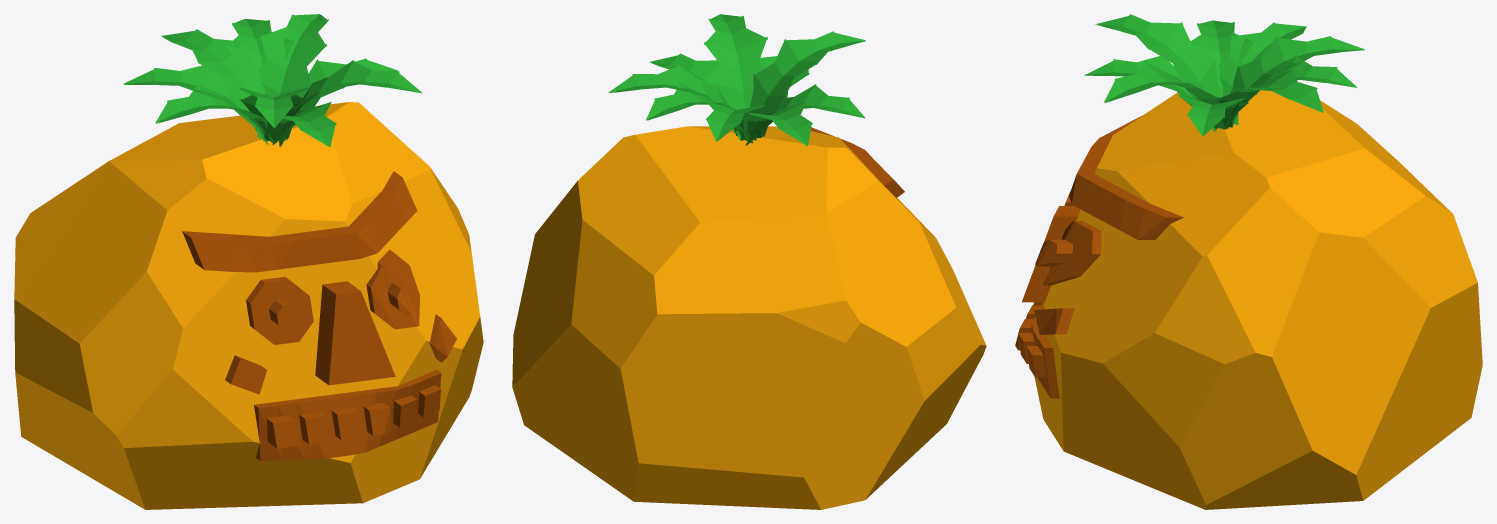
Rendered from TikiBoulder_Split.fbx.
3 views of the same model, side by side, from view 1: azimuth 30°, elevation 25°; view 2: azimuth 150°, elevation 25°; view 3: azimuth 270°, elevation 25° (orthographic). The views are drawn at different scales.
Parts seen in each view (by area): view 1: TikiBoulder_PieceA, TikiBoulder_PieceB, TikiBoulder_Face_L, TikiBoulder_Face_R, TikiBoulder_Palm_R, TikiBoulder_Palm_L; view 2: TikiBoulder_PieceA, TikiBoulder_PieceB, TikiBoulder_Palm_R, TikiBoulder_Palm_L, TikiBoulder_Face_L; view 3: TikiBoulder_PieceB, TikiBoulder_Face_R, TikiBoulder_Palm_L, TikiBoulder_PieceA, TikiBoulder_Palm_R, TikiBoulder_Face_L.
Boxes of the visible parts, bbox=[...] form: TikiBoulder_PieceA: bbox=[14, 121, 359, 509]; TikiBoulder_PieceB: bbox=[198, 102, 483, 503]; TikiBoulder_Face_L: bbox=[182, 229, 364, 460]; TikiBoulder_Face_R: bbox=[327, 171, 456, 452]; TikiBoulder_Palm_R: bbox=[218, 14, 421, 146]; TikiBoulder_Palm_L: bbox=[123, 29, 331, 147]; TikiBoulder_PieceA: bbox=[633, 131, 986, 509]; TikiBoulder_PieceB: bbox=[512, 126, 812, 501]; TikiBoulder_Palm_R: bbox=[608, 14, 791, 145]; TikiBoulder_Palm_L: bbox=[706, 31, 865, 146]; TikiBoulder_Face_L: bbox=[820, 131, 904, 197]; TikiBoulder_PieceB: bbox=[1036, 124, 1481, 509]; TikiBoulder_Face_R: bbox=[1015, 164, 1183, 398]; TikiBoulder_Palm_L: bbox=[1084, 14, 1364, 116]; TikiBoulder_PieceA: bbox=[1034, 90, 1482, 392]; TikiBoulder_Palm_R: bbox=[1091, 44, 1356, 136]; TikiBoulder_Face_L: bbox=[1026, 115, 1142, 318].
Size of the model in its own units: 20.79 by 17.56 by 19.87.
